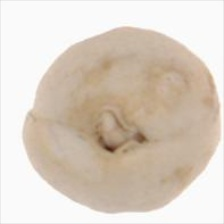L3: (78, 104, 154, 153)
L4: (21, 26, 222, 214)
